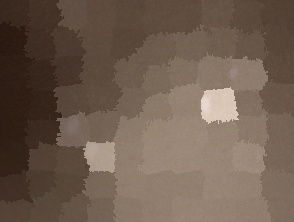vitiligo: (49, 28, 272, 162)
